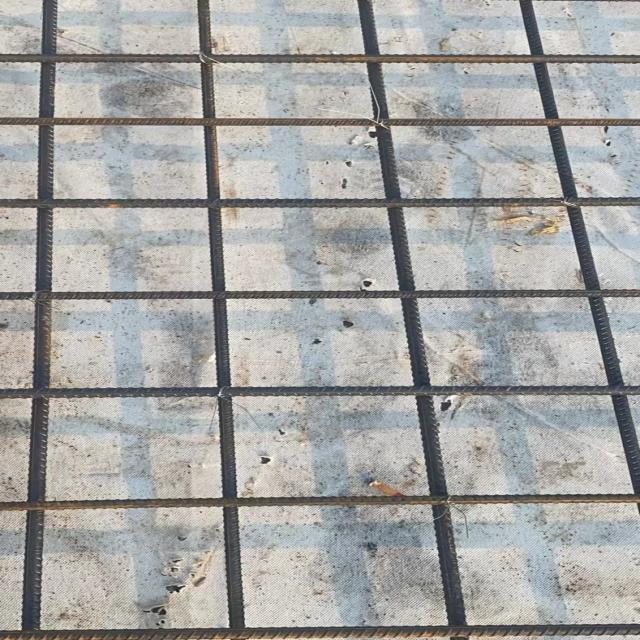ribbed bar: (356, 0, 469, 639), (515, 0, 638, 498), (195, 0, 247, 639), (18, 0, 59, 631), (0, 493, 638, 509), (0, 623, 638, 639), (0, 195, 638, 207), (0, 385, 638, 397), (0, 288, 638, 299), (0, 116, 638, 126), (0, 54, 638, 63)
